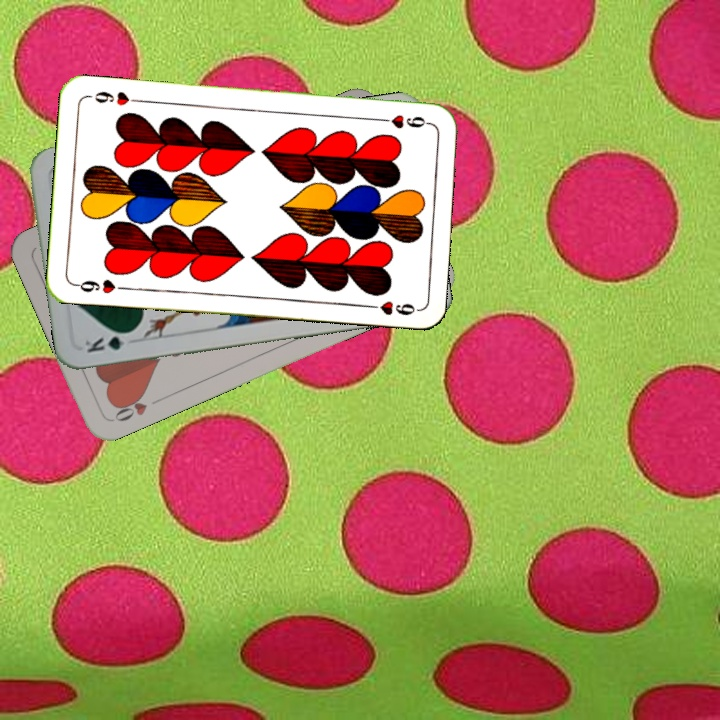GK: (81, 327, 137, 356)
H9: (70, 275, 130, 297), (373, 110, 433, 132)
HO: (110, 389, 150, 425)
